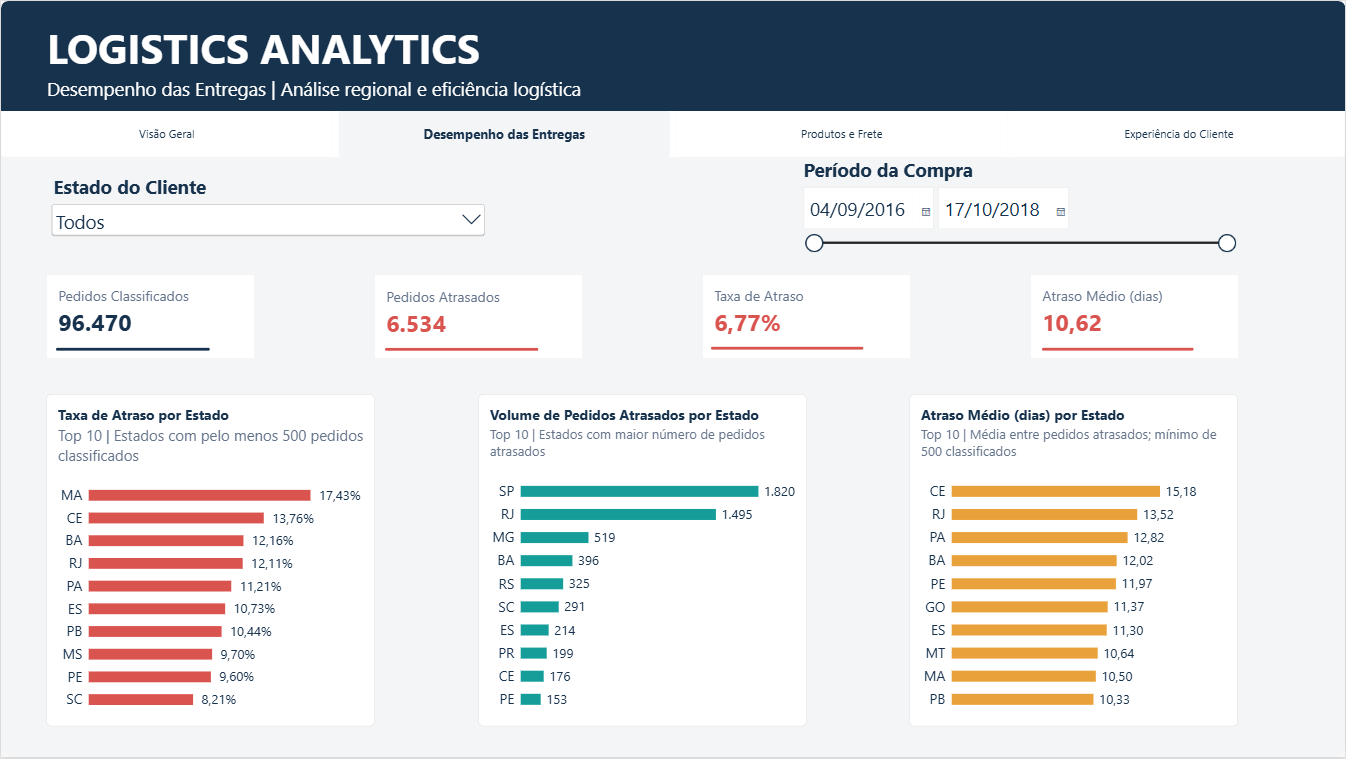

The dashboard page shown, as its layout file describes it:
{"tool":"powerbi","page":{"name":"Desempenho das Entregas","canvas":[1920,1080],"ordinal":1},"visuals":[{"type":"shape","box":[0,0,1920,1079.6],"z":0},{"type":"shape","box":[0,0,1920.6,191.5],"z":1000},{"type":"cardVisual","title":"sadada","fields":{"Data":["fact_order_delivery.Pedidos Classificados"]},"box":[66.2,391.5,295.7,105.7],"z":1000,"group":"g1"},{"type":"cardVisual","title":"sadada","fields":{"Data":["fact_order_delivery.Pedidos Atrasados"]},"box":[534.9,391.5,295.4,106.6],"z":1000,"group":"g2"},{"type":"shape","box":[0,156.9,1920.6,66.5],"z":2000},{"type":"cardVisual","title":"sadada","fields":{"Data":["fact_order_delivery.Taxa de Atraso"]},"box":[1003.5,391.5,295.4,105.2],"z":2000,"group":"g3"},{"type":"cardVisual","title":"sadada","fields":{"Data":["fact_order_delivery.Atraso Médio (dias)"]},"box":[1472.1,391.5,294,105.3],"z":3000,"group":"g4"},{"type":"textbox","box":[66,27.1,631,81.2],"z":4000},{"type":"textbox","box":[66.3,107.6,775.1,39.8],"z":5000},{"type":"slicer","fields":{"Values":["dim_customer.customer_state"]},"box":[67.1,246.6,629.2,237.2],"z":6000},{"type":"shape","box":[549.1,483.8,219.4,26.6],"z":6005,"group":"g2"},{"type":"shape","box":[78.7,484.4,219.6,26.4],"z":6005,"group":"g1"},{"type":"slicer","fields":{"Values":["fact_order_delivery.order_purchase_timestamp"]},"box":[1138,223.2,629.2,230],"z":7000},{"type":"group","id":"g1","title":"Grupo 1","box":[66.2,391.5,295.3,118.4],"z":8000},{"type":"group","id":"g2","title":"Grupo 2","box":[534.9,391.5,295.3,118.4],"z":9000},{"type":"group","id":"g3","title":"Grupo 3","box":[1003.5,391.5,295.3,118.4],"z":10000},{"type":"shape","box":[1014.6,483.6,217.5,26.3],"z":10001,"group":"g3"},{"type":"shape","box":[1488.1,483.7,216.5,26.3],"z":10002,"group":"g4"},{"type":"group","id":"g4","title":"Grupo 4","box":[1472.1,391.5,295.3,118.4],"z":11000},{"type":"barChart","title":"Taxa de Atraso por Estado","fields":{"Category":["dim_customer.customer_state"],"Y":["fact_order_delivery.Taxa de Atraso (Min 500 Pedidos)"]},"box":[64.9,561.4,470.4,475],"z":12000},{"type":"barChart","title":"Volume de Pedidos Atrasados por Estado","fields":{"Category":["dim_customer.customer_state"],"Y":["fact_order_delivery.Pedidos Atrasados"]},"box":[681.3,561.4,470.4,475],"z":13000},{"type":"barChart","title":"Atraso Médio (dias) por Estado","fields":{"Category":["dim_customer.customer_state"],"Y":["fact_order_delivery.Atraso Médio (Min 500 Pedidos)"]},"box":[1297.7,561.4,470,475],"z":14000},{"type":"pageNavigator","box":[0,156.9,1920.6,66.5],"z":14001}]}

Visuals, with their boxes in screenshot pixels (x1, y1, x2, y2), scaled from the page's 1920x1080 canvas onto the 1346x759 screenshot:
shape: (left=0, top=0, right=1345, bottom=758)
shape: (left=0, top=0, right=1345, bottom=135)
"sadada" cardVisual: (left=46, top=275, right=254, bottom=349)
"sadada" cardVisual: (left=375, top=275, right=582, bottom=350)
shape: (left=0, top=110, right=1345, bottom=157)
"sadada" cardVisual: (left=703, top=275, right=911, bottom=349)
"sadada" cardVisual: (left=1032, top=275, right=1238, bottom=349)
textbox: (left=46, top=19, right=489, bottom=76)
textbox: (left=46, top=76, right=590, bottom=104)
slicer - dim_customer.customer_state: (left=47, top=173, right=488, bottom=340)
shape: (left=385, top=340, right=539, bottom=359)
shape: (left=55, top=340, right=209, bottom=359)
slicer - fact_order_delivery.order_purchase_timestamp: (left=798, top=157, right=1239, bottom=318)
"Grupo 1" group: (left=46, top=275, right=253, bottom=358)
"Grupo 2" group: (left=375, top=275, right=582, bottom=358)
"Grupo 3" group: (left=703, top=275, right=911, bottom=358)
shape: (left=711, top=340, right=864, bottom=358)
shape: (left=1043, top=340, right=1195, bottom=358)
"Grupo 4" group: (left=1032, top=275, right=1239, bottom=358)
"Taxa de Atraso por Estado" barChart: (left=45, top=395, right=375, bottom=728)
"Volume de Pedidos Atrasados por Estado" barChart: (left=478, top=395, right=807, bottom=728)
"Atraso Médio (dias) por Estado" barChart: (left=910, top=395, right=1239, bottom=728)
pageNavigator: (left=0, top=110, right=1345, bottom=157)
